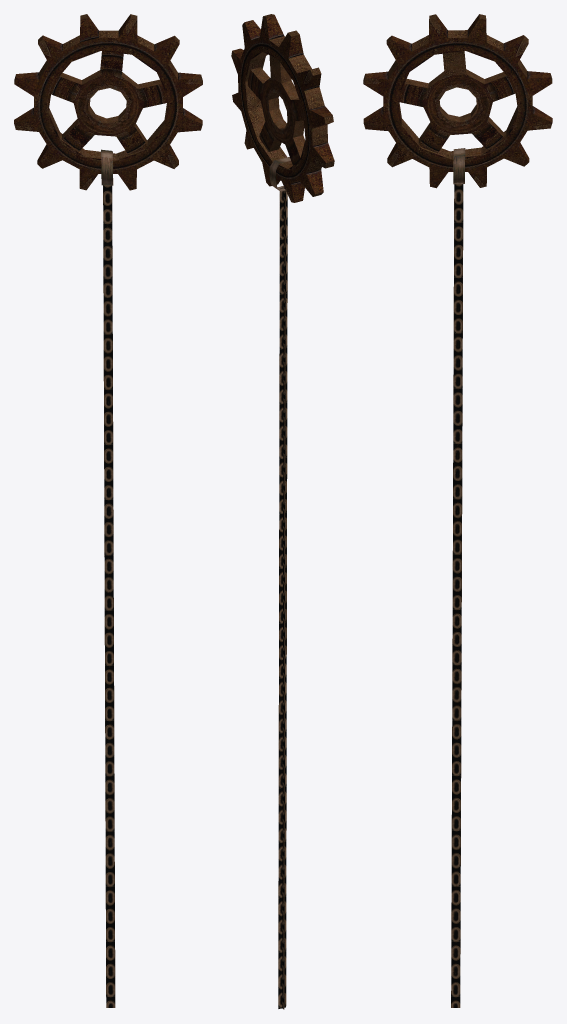
Rendered from gear_club1_6m.fbx.
3 renders of one model, left to right at view 1: azimuth 90°, elevation 25°; view 2: azimuth 210°, elevation 25°; view 3: azimuth 270°, elevation 25°, orthographic.
Visible parts, largest first — view 1: mesh_1, mesh_0; view 2: mesh_1, mesh_0; view 3: mesh_1, mesh_0.
Part boxes in pixels (box(x1,y1,x2,y2)): mesh_1: box(14, 14, 202, 190); mesh_0: box(101, 149, 115, 1007); mesh_1: box(231, 14, 334, 202); mesh_0: box(269, 157, 290, 1009); mesh_1: box(363, 14, 552, 188); mesh_0: box(451, 148, 465, 1007).
Bounding box in the file's own units: 18.44 × 722 × 125.
Materials: 2 (2 with a texture image).
